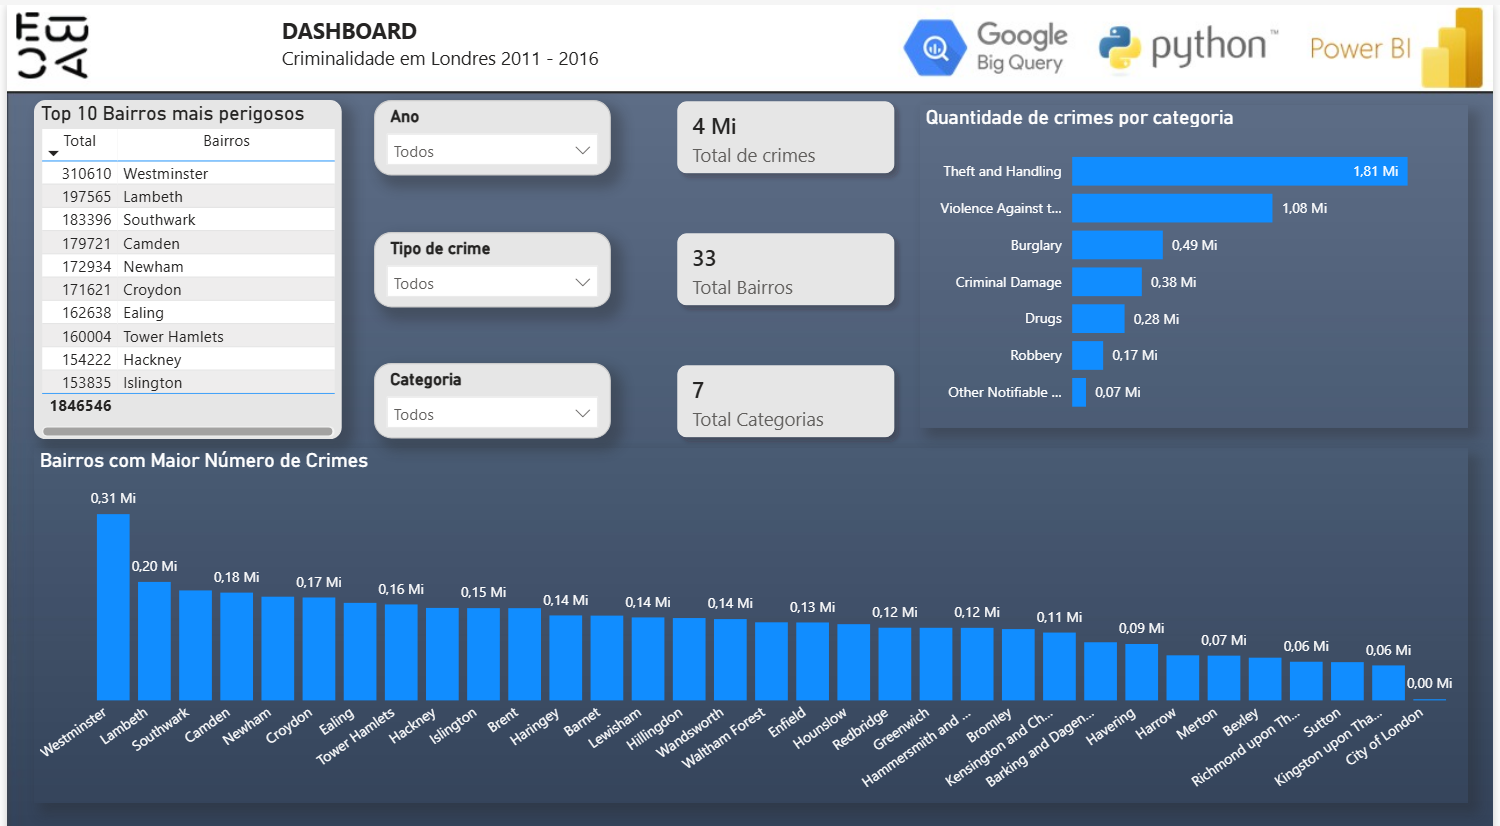

What the dashboard file says about the page in this screenshot:
{"tool":"powerbi","page":{"name":"Crimes por Regiao","canvas":[1280,720],"ordinal":0},"visuals":[{"type":"tableEx","title":"Top 10 Bairros mais perigosos","fields":{"Values":["Sum(ready.total_crimes)","ready.borough"]},"box":[23,81.5,264.5,291.8],"z":0},{"type":"clusteredColumnChart","title":"Bairros com Maior Número de Crimes","fields":{"Category":["ready.borough"],"Y":["ready.Total Crimes"]},"box":[23,381.5,1235.5,306.4],"z":1000},{"type":"slicer","fields":{"Values":["ready.major_category"]},"box":[315.7,308.7,203.6,64.5],"z":2000},{"type":"cardVisual","fields":{"Data":["ready.Total Crimes"]},"box":[563,68.7,215.5,90.9],"z":3000},{"type":"textbox","box":[231.4,4.3,332.9,65.7],"z":4000},{"type":"slicer","fields":{"Values":["ready.year"]},"box":[315.7,81.5,203.6,64.5],"z":5000},{"type":"slicer","fields":{"Values":["ready.minor_category"]},"box":[315.7,195.1,203.6,64.5],"z":6000},{"type":"barChart","title":"Quantidade de crimes por categoria","fields":{"Category":["ready.major_category"],"Y":["ready.Total Crimes"]},"box":[786.6,86,471.8,278.2],"z":7000},{"type":"cardVisual","fields":{"Data":["ready.Total Bairros"]},"box":[563,182.4,215.5,90.9],"z":8000},{"type":"cardVisual","fields":{"Data":["ready.Total Categorias"]},"box":[563,296,215.5,90.9],"z":9000}]}

Visuals, with their boxes in screenshot pixels (x1, y1, x2, y2), scaled from the page's 1280x720 canvas onto the 1500x826 screenshot:
"Top 10 Bairros mais perigosos" tableEx: 27,93,337,428
"Bairros com Maior Número de Crimes" clusteredColumnChart: 27,438,1475,789
slicer - ready.major_category: 370,354,609,428
cardVisual - ready.Total Crimes: 660,79,912,183
textbox: 271,5,661,80
slicer - ready.year: 370,93,609,167
slicer - ready.minor_category: 370,224,609,298
"Quantidade de crimes por categoria" barChart: 922,99,1475,418
cardVisual - ready.Total Bairros: 660,209,912,314
cardVisual - ready.Total Categorias: 660,340,912,444
